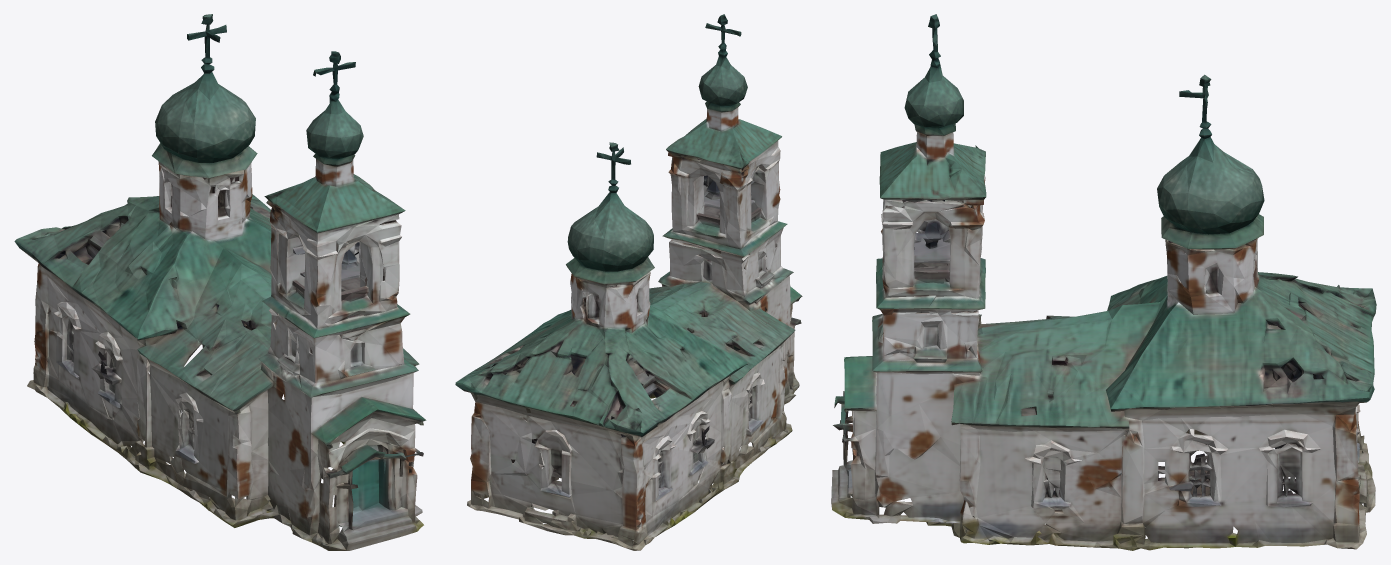
The model's file is k_church.obj.
3 views of the same model, side by side, from view 1: azimuth 30°, elevation 25°; view 2: azimuth 150°, elevation 25°; view 3: azimuth 270°, elevation 25° (orthographic). The views are drawn at different scales.
Parts seen in each view (by area): view 1: k_church; view 2: k_church; view 3: k_church.
Part boxes in pixels (x1,y1,x2,y2): k_church: (14,14,426,550); k_church: (455,14,802,550); k_church: (831,14,1376,550).
Size of the model in its own units: 8.03 by 15.76 by 16.
1 material, 1 textured.
